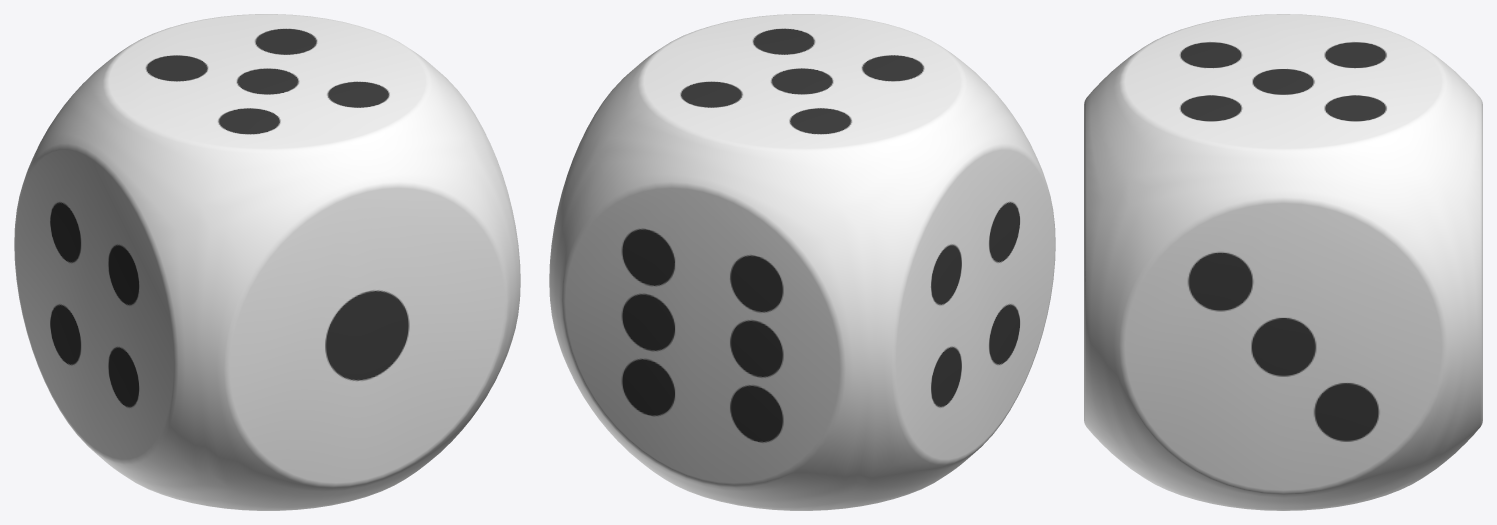
The model's file is Dice.fbx.
3 views of the same model, side by side, from view 1: azimuth 30°, elevation 25°; view 2: azimuth 150°, elevation 25°; view 3: azimuth 270°, elevation 25° (orthographic).
Parts seen in each view (by area): view 1: Dice; view 2: Dice; view 3: Dice.
Boxes of the visible parts, x1,y1,x2,y2 form: Dice: (14, 14, 520, 510); Dice: (549, 14, 1055, 510); Dice: (1084, 14, 1482, 510).
Bounding box in the file's own units: 0.1067 × 0.1067 × 0.1067.
